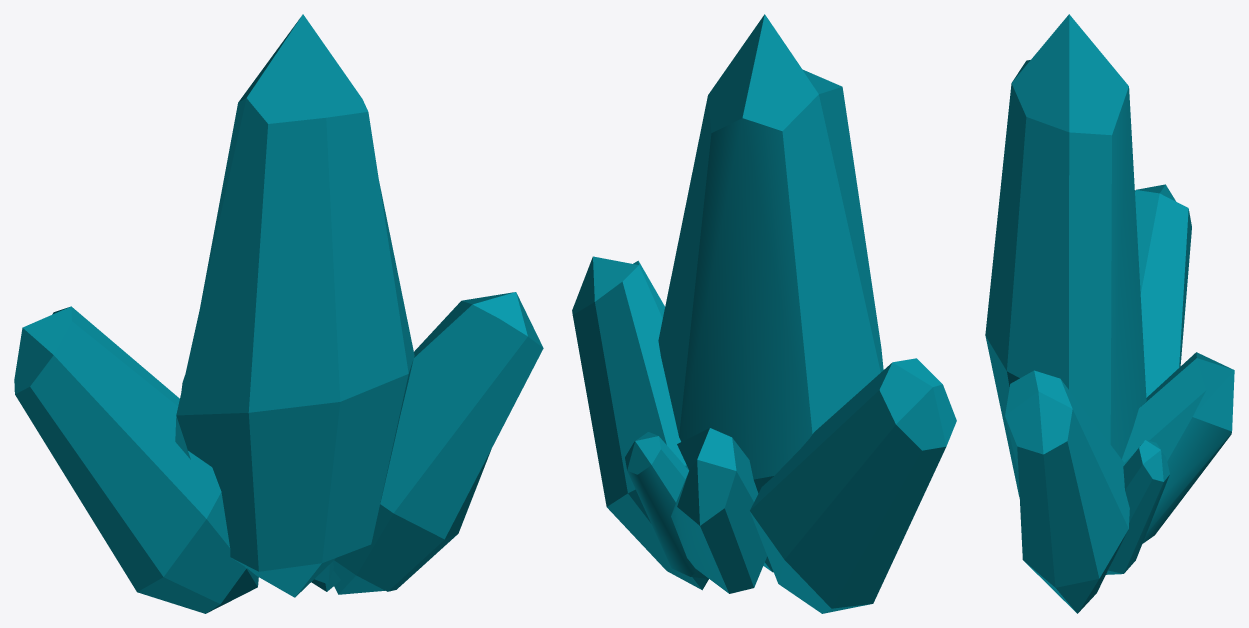
File: Crystal_Std.fbx
3 renders of one model, left to right at view 1: azimuth 30°, elevation 25°; view 2: azimuth 150°, elevation 25°; view 3: azimuth 270°, elevation 25°, orthographic. The views are drawn at different scales.
Visible parts, largest first — view 1: polySurface5; view 2: polySurface5; view 3: polySurface5.
Part boxes in pixels (<box>): polySurface5: <box>14,14,543,613</box>; polySurface5: <box>572,14,956,613</box>; polySurface5: <box>985,14,1234,613</box>.
Size of the model in its own units: 1.75 by 2.22 by 0.9019.
